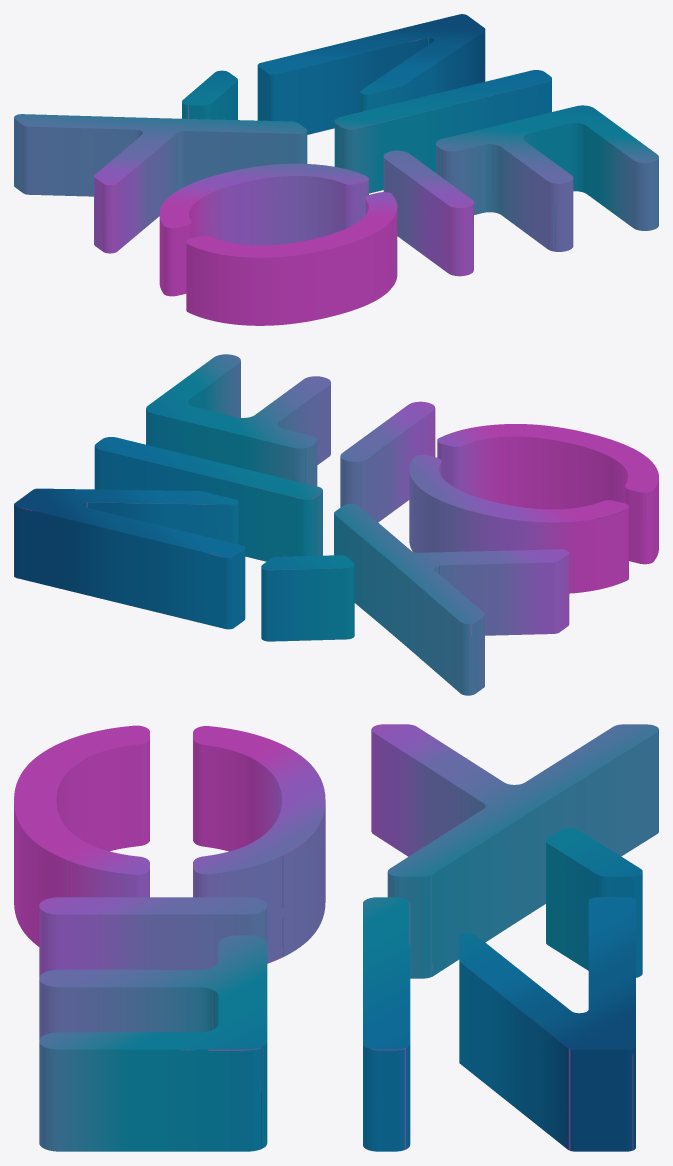
File: nexo_gradient.gltf
The picture shows the model from 3 angles, top to bottom: view 1: azimuth 30°, elevation 25°; view 2: azimuth 150°, elevation 25°; view 3: azimuth 270°, elevation 25°; orthographic projection. The views are drawn at different scales.
Visible parts, largest first — view 1: NEXO; view 2: NEXO; view 3: NEXO.
Part boxes in pixels (x1,y1,x2,y2): NEXO: (14,14,658,325); NEXO: (14,354,658,695); NEXO: (14,724,658,1151).
Size of the model in its own units: 1.1 by 0.16 by 0.918.
Materials: 1 (1 with a texture image).
